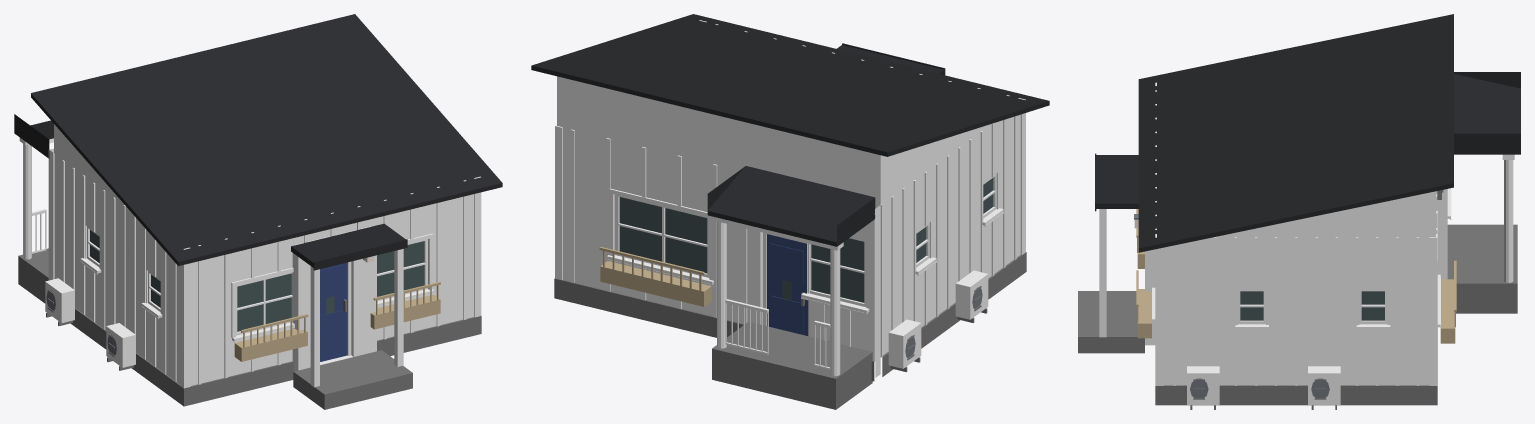
The model's file is mashup-hut_cottage-top-prebuilt_close.fbx.
The picture shows the model from 3 angles, left to right: view 1: azimuth 30°, elevation 25°; view 2: azimuth 150°, elevation 25°; view 3: azimuth 270°, elevation 25°; orthographic projection. The views are drawn at different scales.
Parts seen in each view (by area): view 1: a2015.hut_cottage.close; view 2: a2015.hut_cottage.close; view 3: a2015.hut_cottage.close.
Part boxes in pixels (x1,y1,x2,y2): a2015.hut_cottage.close: [14, 14, 502, 409]; a2015.hut_cottage.close: [531, 14, 1049, 409]; a2015.hut_cottage.close: [1078, 14, 1520, 409].
Size of the model in its own units: 6.64 by 4.22 by 7.3.
